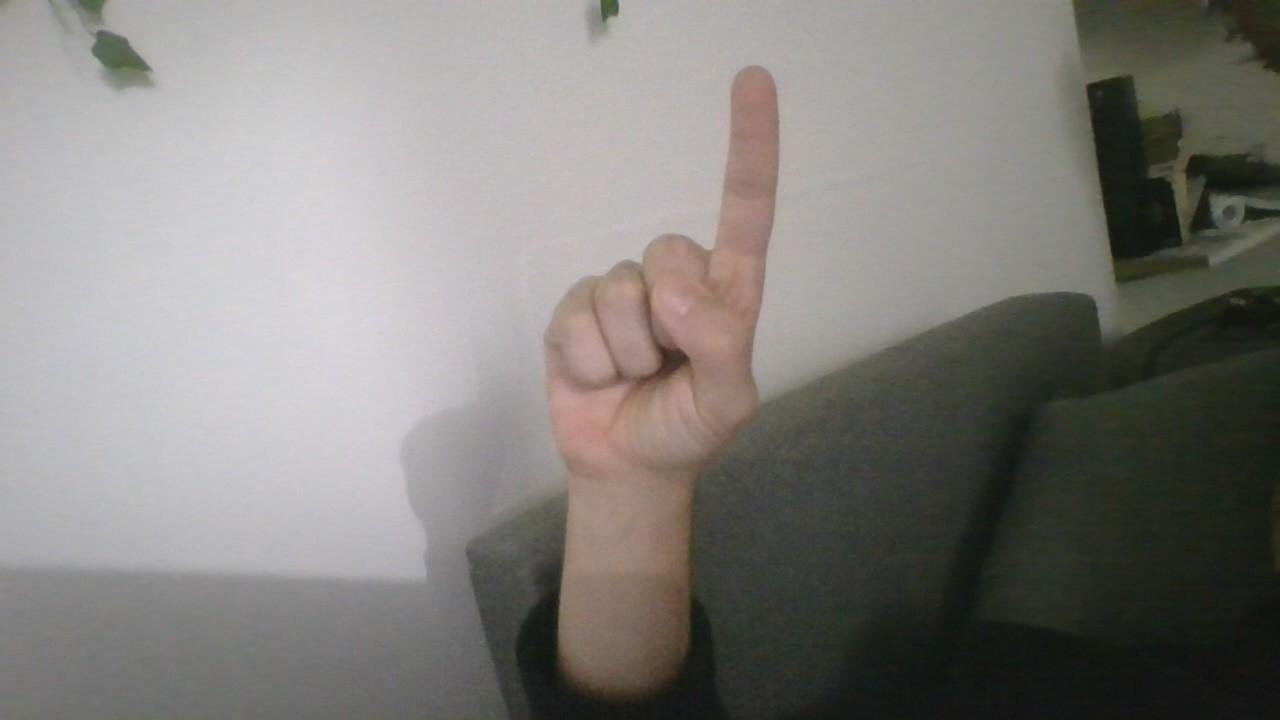up: (522, 33, 778, 492)
